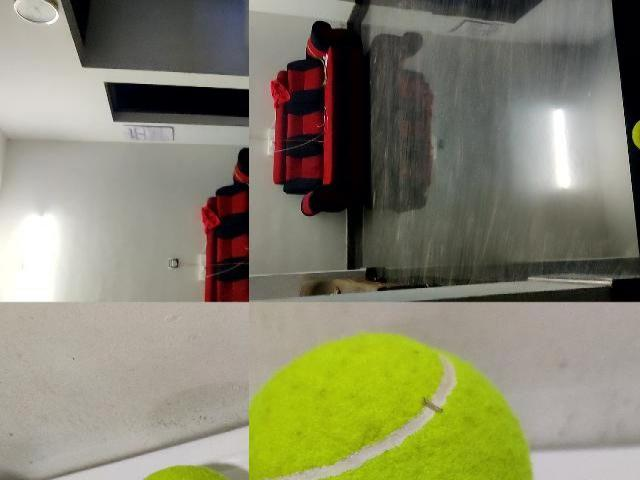tennis-ball: (249, 329, 537, 479), (144, 465, 227, 480), (631, 115, 639, 153)
